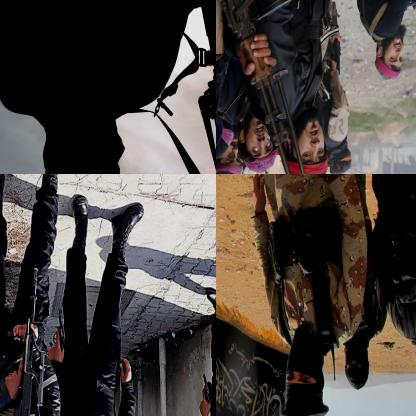rifle: (216, 0, 314, 173), (0, 266, 48, 415)
